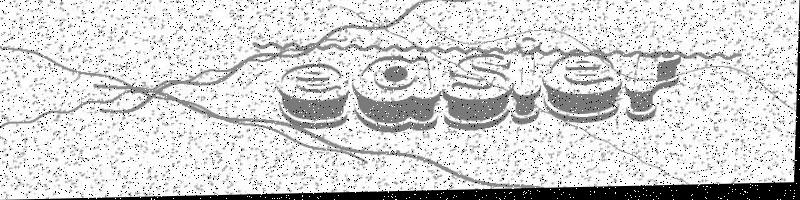a: (353, 55, 442, 135)
e: (543, 50, 627, 125), (274, 60, 352, 131)
i: (512, 35, 544, 128)
r: (621, 47, 686, 127)
s: (441, 52, 514, 132)
